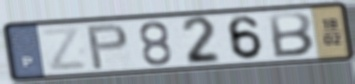2: (179, 14, 223, 68)
6: (225, 13, 265, 62)
8: (138, 20, 174, 68)
B: (268, 11, 316, 59)
P: (84, 22, 131, 71)
Z: (39, 25, 90, 73)
